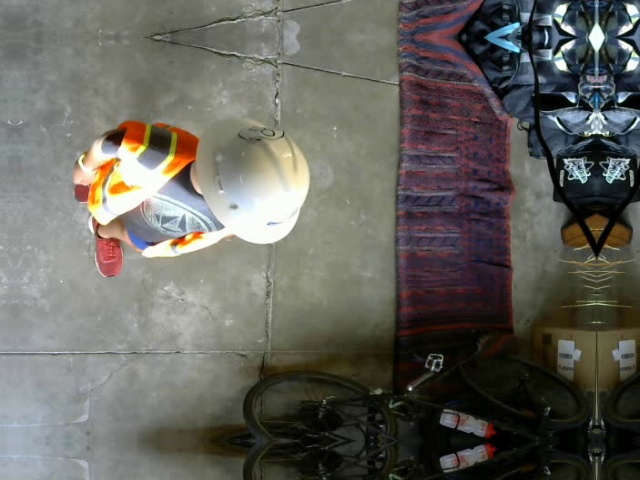eight: (237, 126, 285, 143)
